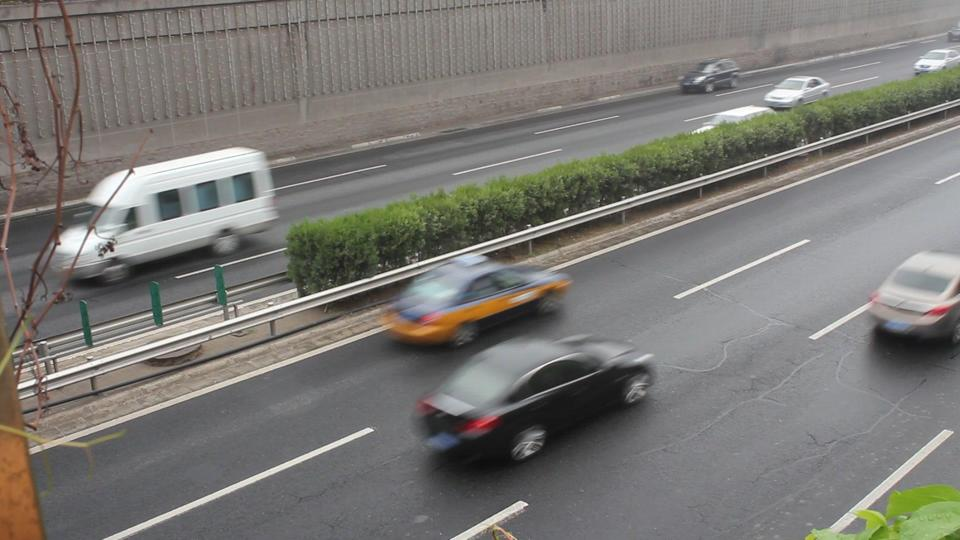car: (413, 333, 659, 465), (377, 253, 575, 350), (867, 250, 960, 346), (762, 76, 832, 110), (678, 58, 741, 94), (913, 49, 960, 74), (947, 23, 960, 42)
truck: (54, 145, 280, 287)
